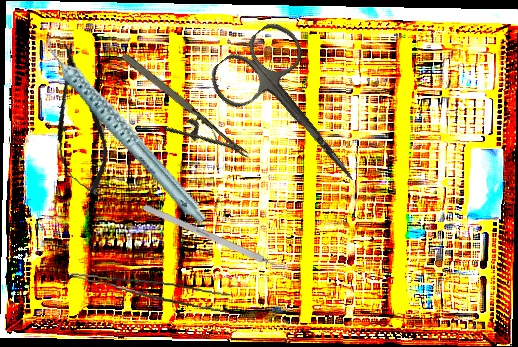Handpiece: (41, 9, 209, 248)
Hook Surgical: (142, 203, 293, 276)
Iris Scissors: (202, 14, 390, 213)
Micro Scissor: (43, 39, 114, 201)
Needle Holder: (104, 48, 251, 184)
Tissue Forceps: (67, 272, 232, 313)
